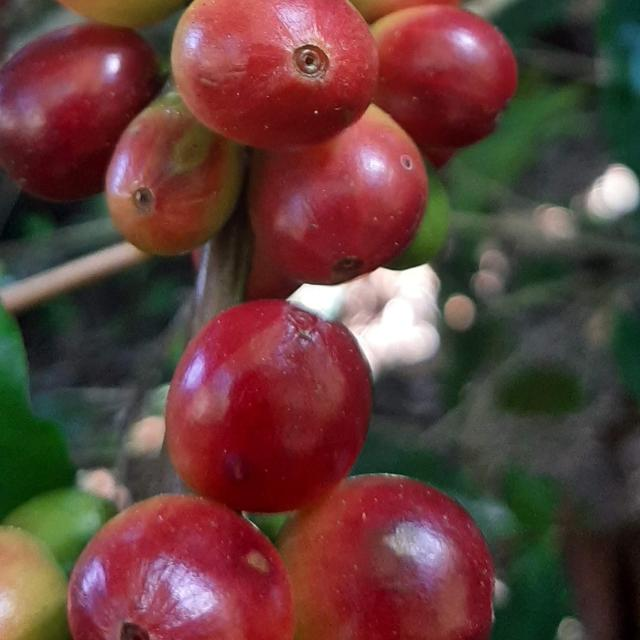green: (2, 489, 116, 576)
red: (165, 300, 372, 513), (67, 496, 295, 640), (0, 23, 160, 201)
yellow: (277, 475, 495, 640), (248, 104, 428, 284), (171, 0, 378, 148), (105, 92, 243, 255), (370, 4, 518, 148), (0, 527, 69, 640)
